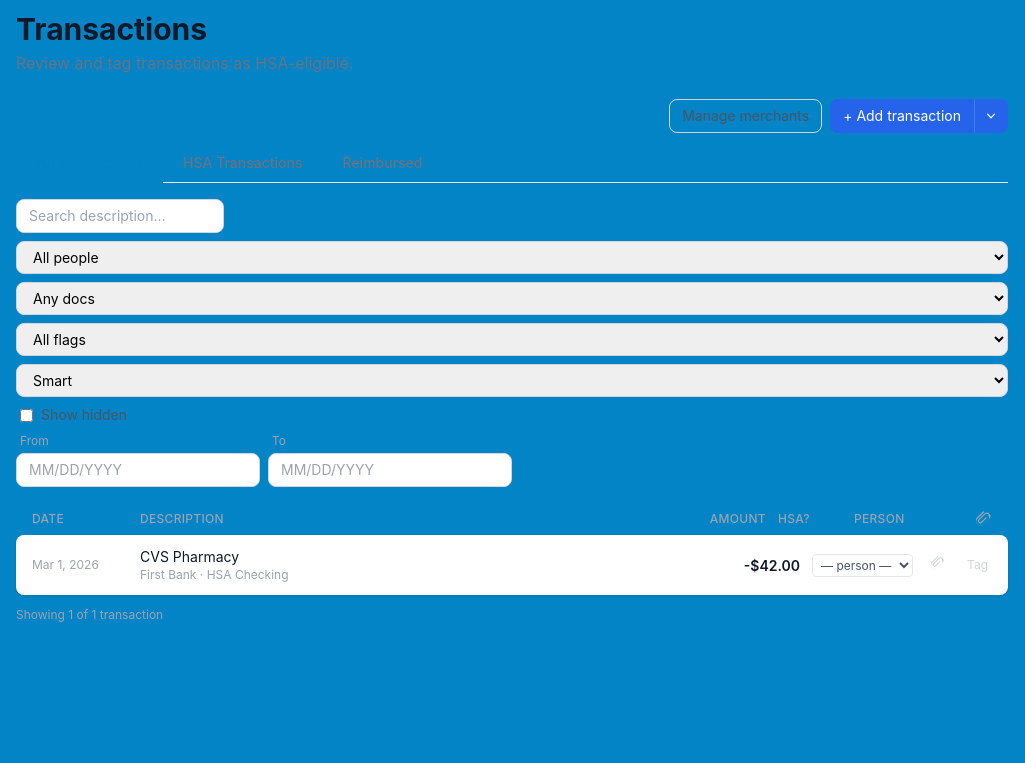
Scenario: Transactions page › category filter › shows remove pin button when category has a pin
Expected: the text "CVS Pharmacy" is shown, x1=140 y1=548 x2=239 y2=565
Select "Dining" in the 4th dropdown showing "Smart" at (512, 380), box x1=16 y1=364 x2=1008 y2=397
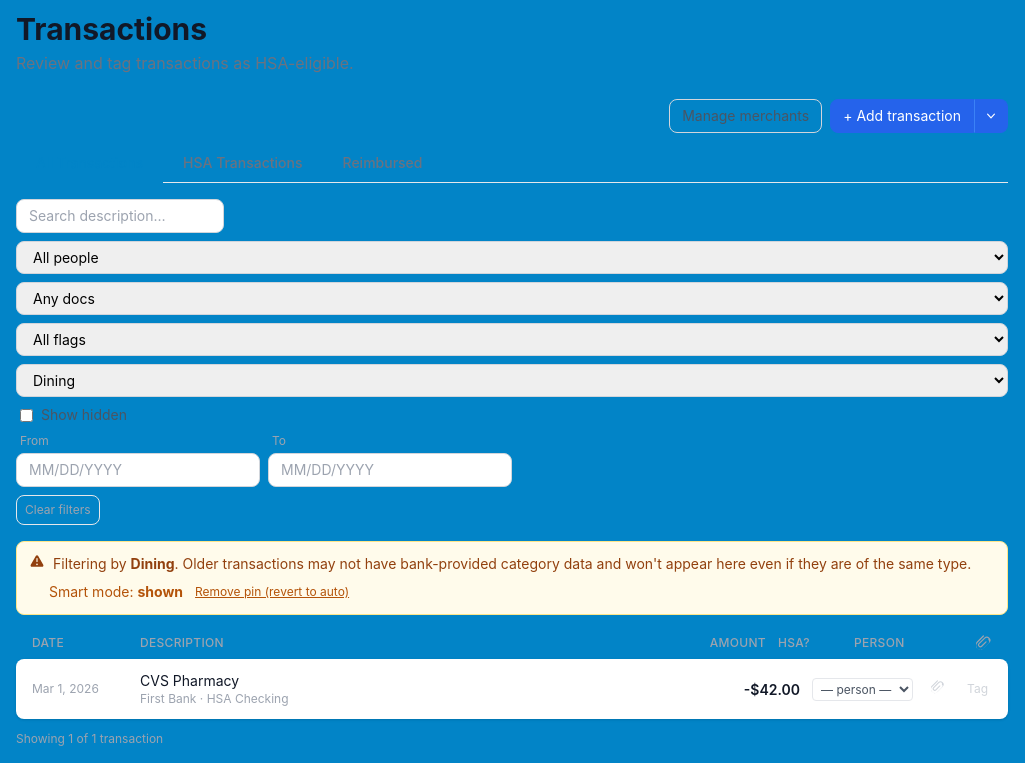
Expected: the button "Remove pin (revert to auto)" is shown, x1=195 y1=584 x2=349 y2=600
